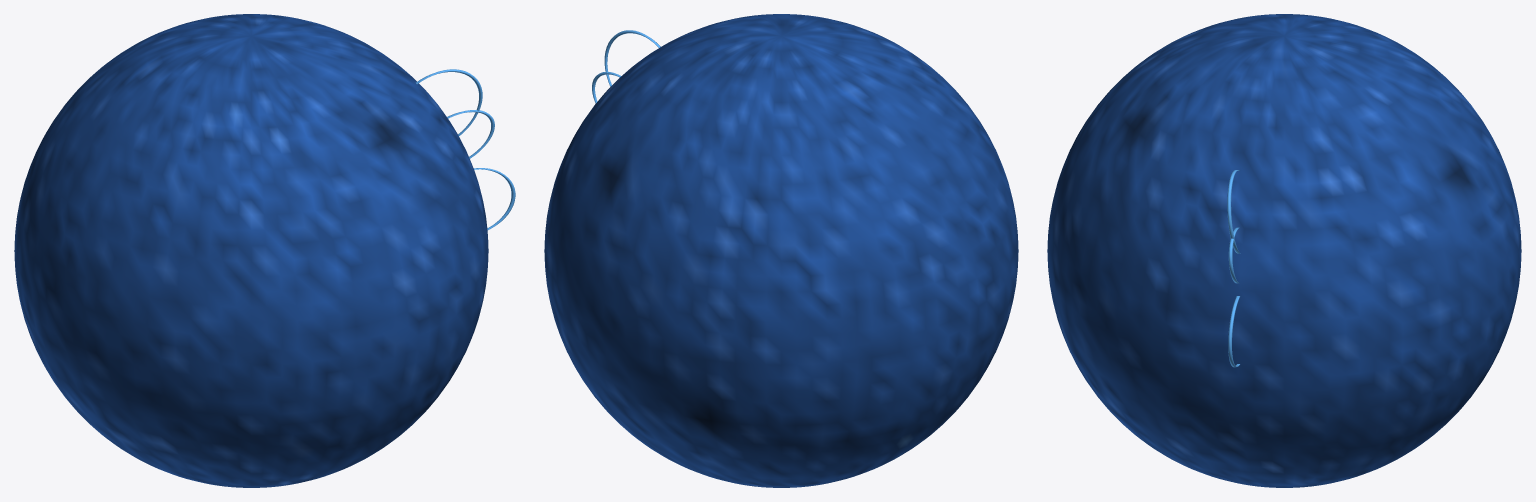
File: Star_26.fbx
The picture shows the model from 3 angles, left to right: view 1: azimuth 30°, elevation 25°; view 2: azimuth 150°, elevation 25°; view 3: azimuth 270°, elevation 25°; orthographic projection.
Parts seen in each view (by area): view 1: Star_26; view 2: Star_26; view 3: Star_26.
Boxes of the visible parts, box(x1,y1,x2,y2) form: Star_26: box(14, 14, 515, 487); Star_26: box(544, 14, 1018, 487); Star_26: box(1047, 14, 1521, 487).
Bounding box in the file's own units: 215 × 200 × 200.
